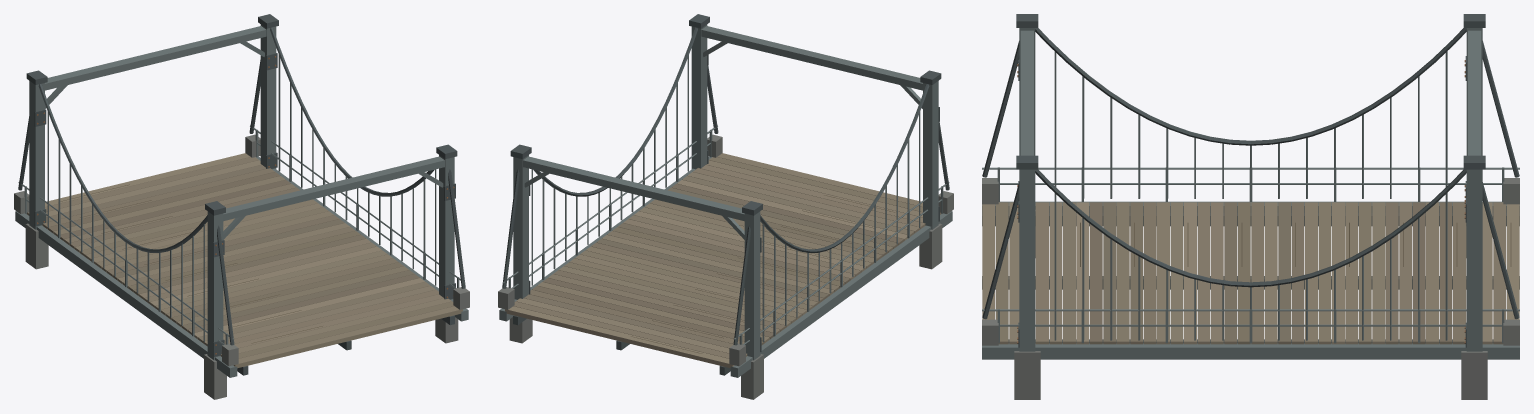
File: bridge_suspension.glb
3 renders of one model, left to right at view 1: azimuth 30°, elevation 25°; view 2: azimuth 150°, elevation 25°; view 3: azimuth 270°, elevation 25°, orthographic. The views are drawn at different scales.
Visible parts, largest first — view 1: bridge_suspension; view 2: bridge_suspension; view 3: bridge_suspension.
Boxes of the visible parts, bbox=[...] form: bridge_suspension: bbox=[14, 14, 469, 399]; bridge_suspension: bbox=[498, 14, 953, 399]; bridge_suspension: bbox=[982, 14, 1519, 399].
Bounding box in the file's own units: 10.5 × 7.78 × 16.
